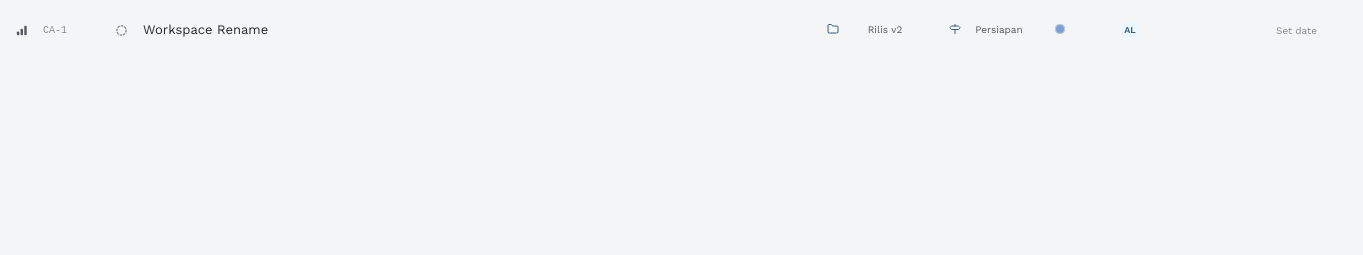
TrackerRow › single-picker mutex › closes date and opens project
The width and height of the screenshot is (1363, 255).
Click the button with aria-label "Date: Set date" at (1297, 30), box [1276,22,1317,38]
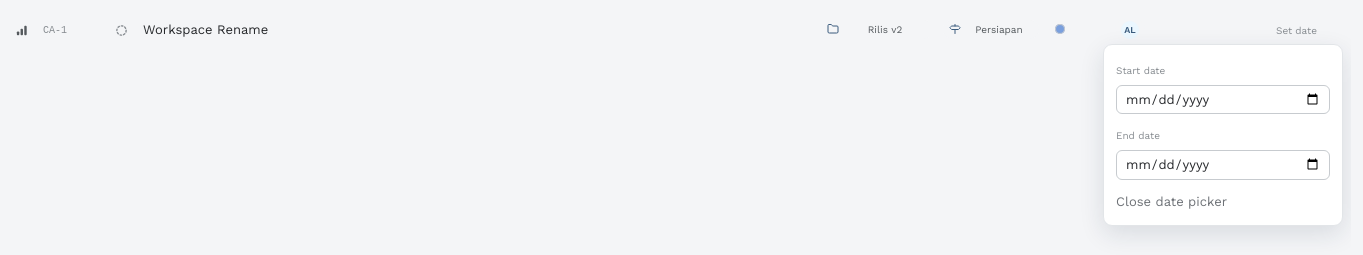
expect the date field labelled "Start date" is shown: met
Type "2026-08-06" into the date field labelled "Start date" at (1223, 99), box [1116,84,1330,114]
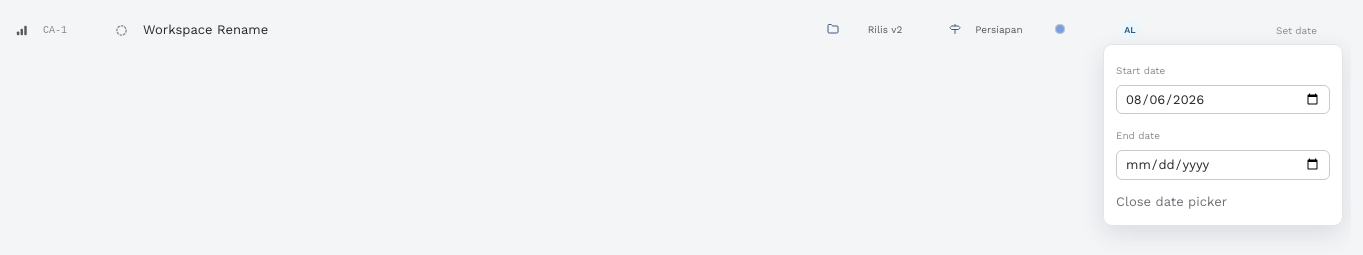
Click the button with aria-label "Project: Rilis v2" at (877, 29), box [821,20,933,38]
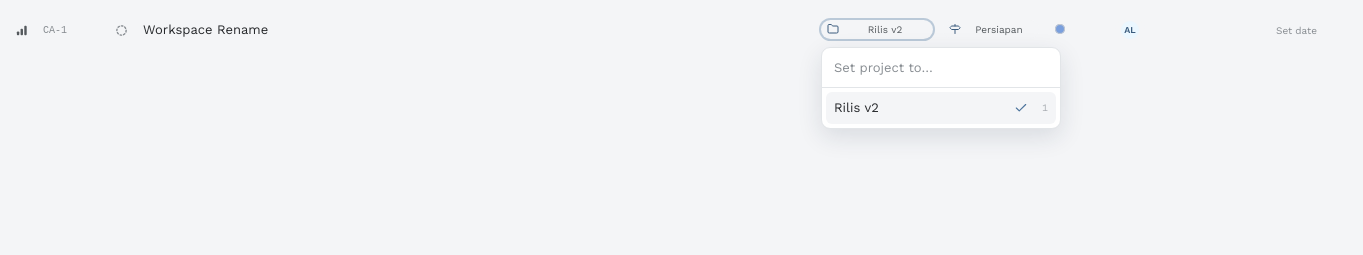
expect the text labelled "Start date" is gone: met
expect the dropdown labelled "Set project to…" is shown: met, box [822,48,1060,88]
